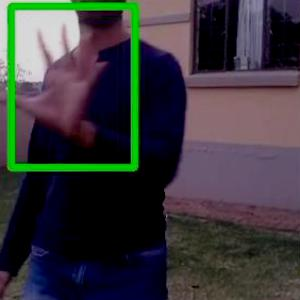follow_hand: (1, 21, 113, 142)
